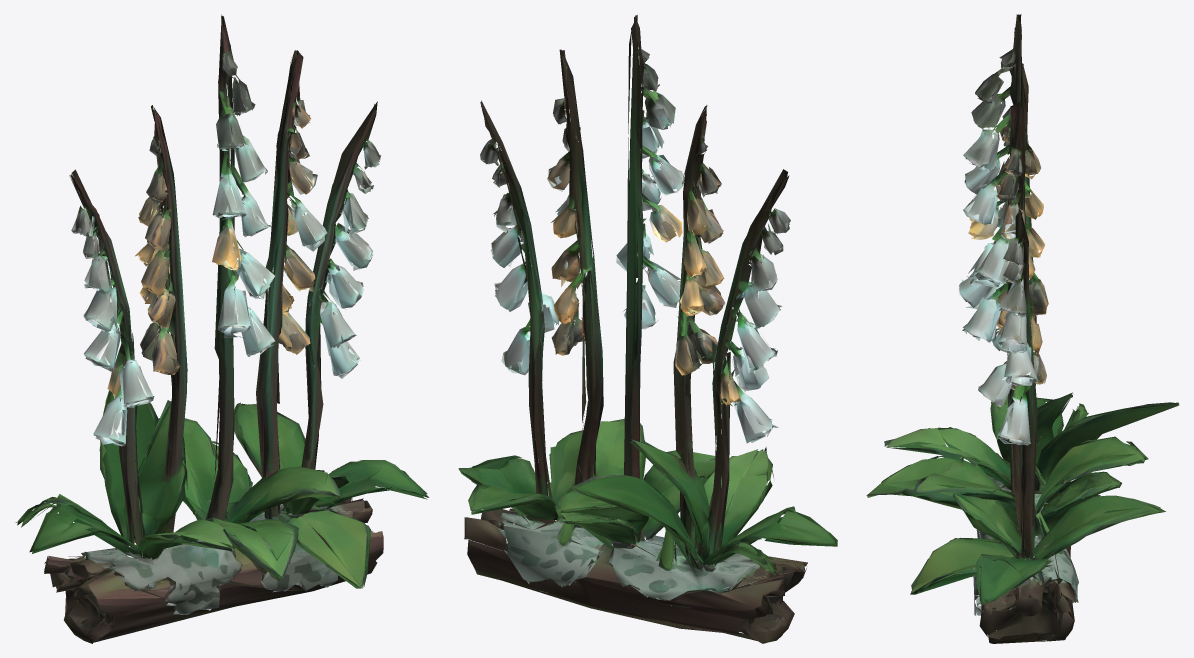
File: mesh_foxglove_cluster_a.glb
3 renders of one model, left to right at view 1: azimuth 30°, elevation 25°; view 2: azimuth 150°, elevation 25°; view 3: azimuth 270°, elevation 25°, orthographic. The views are drawn at different scales.
Visible parts, largest first — view 1: mesh_foxglove_cluster_a__Mesh_0; view 2: mesh_foxglove_cluster_a__Mesh_0; view 3: mesh_foxglove_cluster_a__Mesh_0.
Part boxes in pixels (x1,y1,x2,y2): mesh_foxglove_cluster_a__Mesh_0: [15, 14, 429, 643]; mesh_foxglove_cluster_a__Mesh_0: [458, 15, 837, 643]; mesh_foxglove_cluster_a__Mesh_0: [866, 14, 1179, 643].
Size of the model in its own units: 3.08 by 4.5 by 2.23.
Materials: 1 (1 with a texture image).
